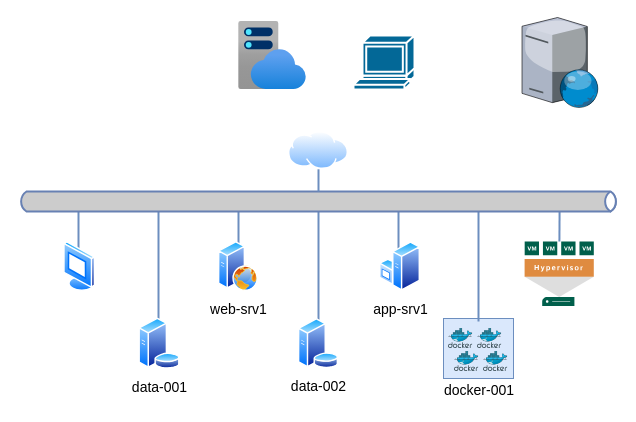
This 636x422 diagram has some shape labels left out. Each missing label, with the box of its shape:
kvm-001: (524, 241, 593, 306)
terminal: (63, 241, 96, 291)
